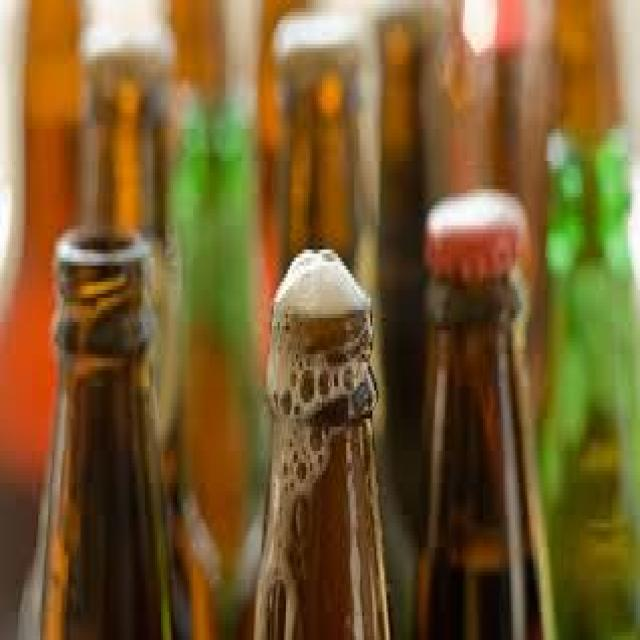glass: (20, 221, 171, 636), (163, 89, 270, 636), (0, 0, 91, 632), (274, 8, 380, 519), (250, 274, 393, 636), (543, 129, 638, 636), (411, 274, 538, 636), (79, 20, 175, 242), (374, 8, 445, 278)
metal: (423, 181, 525, 266)
